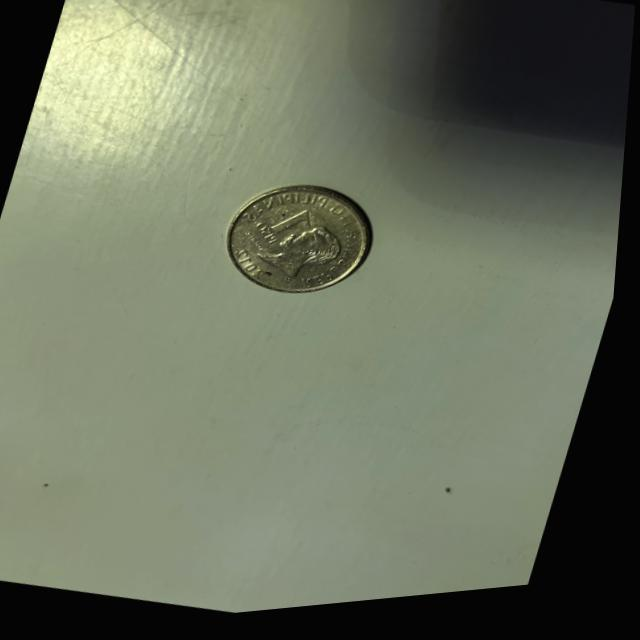1_Old_Front: (248, 198, 321, 261)
